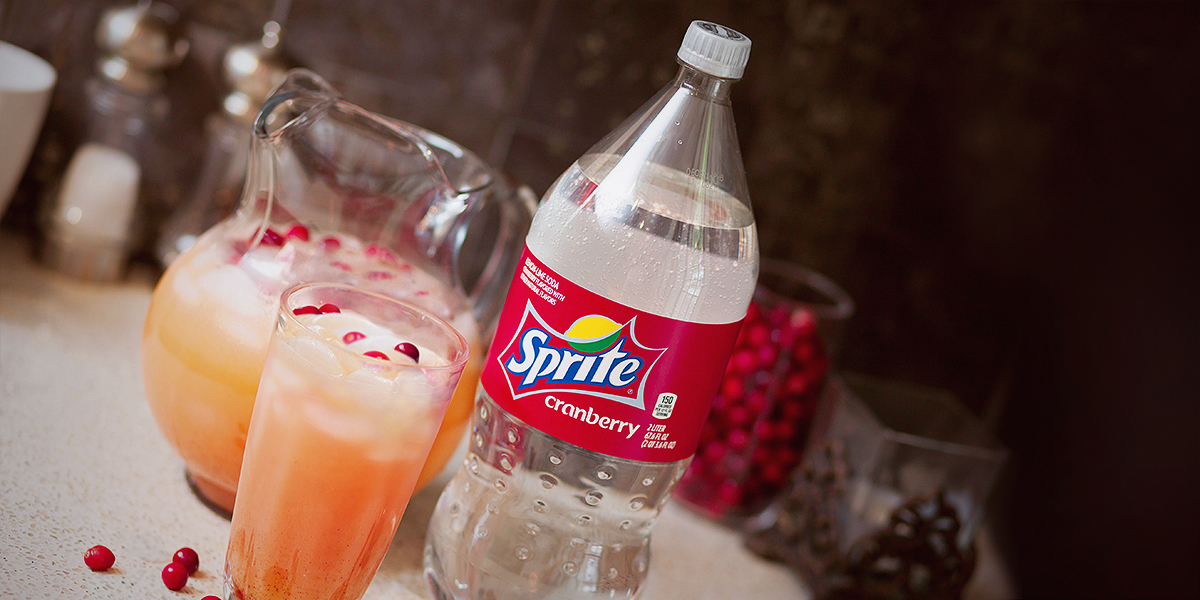sprite: (505, 326, 642, 386), (505, 330, 638, 386), (505, 330, 641, 349), (502, 369, 638, 387)
